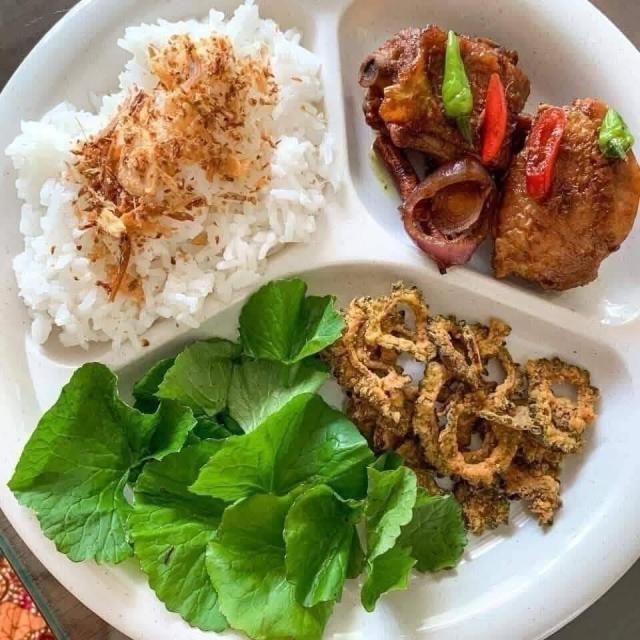Chicken: (356, 20, 639, 298)
Plate: (273, 186, 639, 639)
Rice: (7, 3, 342, 356)
Vegetables: (0, 275, 605, 639)
